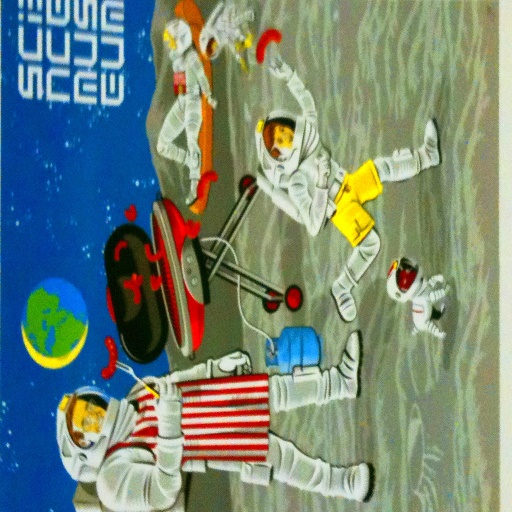hand: (148, 375, 184, 425), (211, 349, 251, 378), (268, 55, 293, 83), (316, 152, 330, 185), (207, 98, 218, 110)
